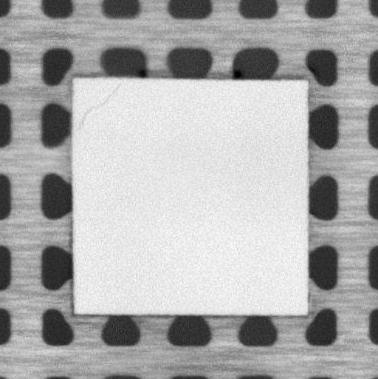DIE_CRACK: (79, 82, 123, 124)
